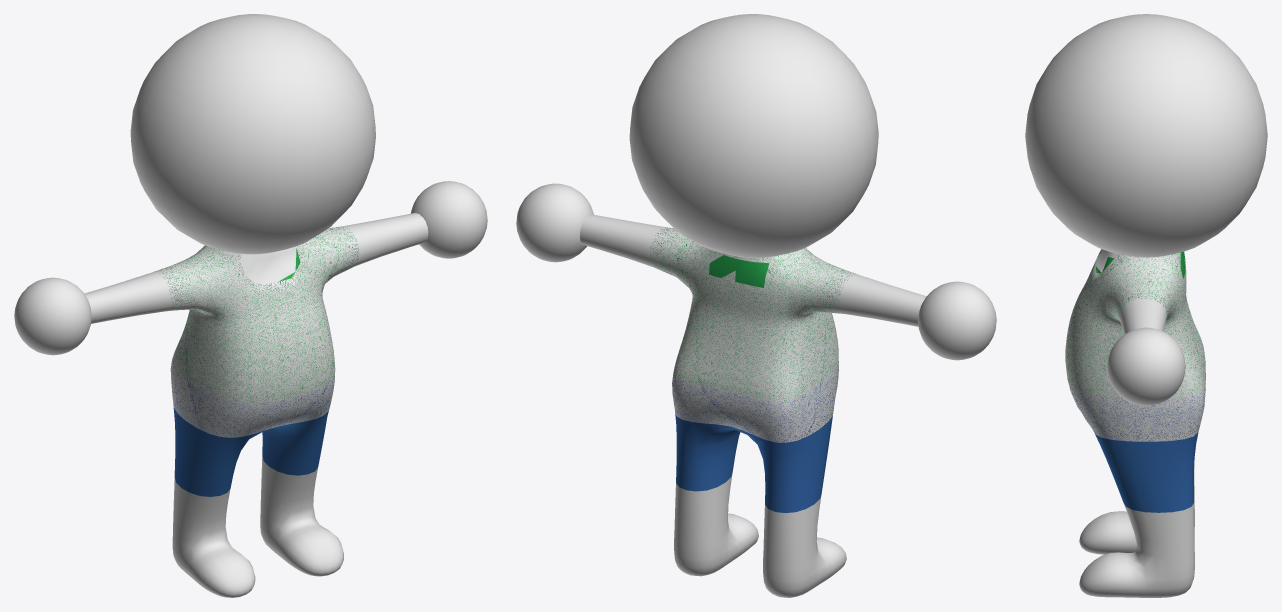
The model's file is texturitled.fbx.
3 renders of one model, left to right at view 1: azimuth 30°, elevation 25°; view 2: azimuth 150°, elevation 25°; view 3: azimuth 270°, elevation 25°, orthographic.
Visible parts, largest first — view 1: Cube.001, Sphere, Sphere.002, Sphere.001; view 2: Cube.001, Sphere, Sphere.002, Sphere.001; view 3: Sphere, Cube.001, Sphere.001.
Part boxes in pixels (x1=…): Cube.001: x1=84, y1=212, x2=428, y2=597; Sphere: x1=130, y1=14, x2=375, y2=254; Sphere.002: x1=14, y1=277, x2=91, y2=355; Sphere.001: x1=410, y1=181, x2=487, y2=258; Cube.001: x1=580, y1=214, x2=926, y2=597; Sphere: x1=629, y1=14, x2=878, y2=257; Sphere.002: x1=918, y1=281, x2=996, y2=360; Sphere.001: x1=516, y1=183, x2=593, y2=262; Sphere: x1=1025, y1=14, x2=1267, y2=257; Cube.001: x1=1065, y1=249, x2=1205, y2=597; Sphere.001: x1=1107, y1=327, x2=1185, y2=405.
Bounding box in the file's own units: 667 × 747 × 300.
